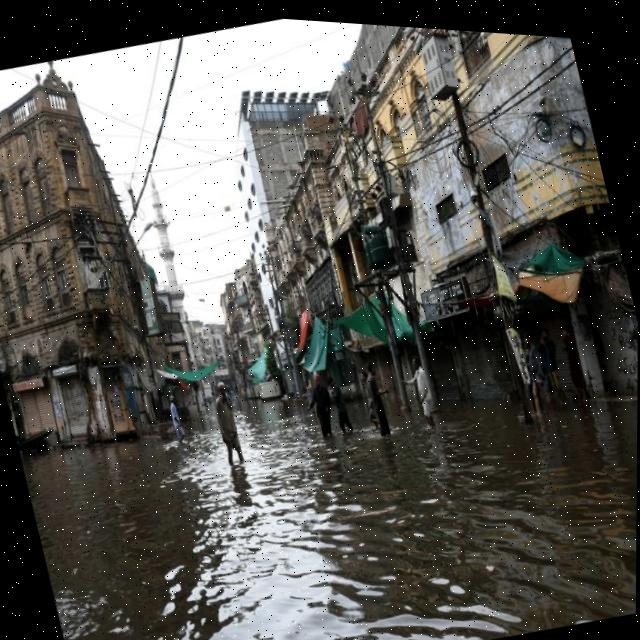civilian: (203, 374, 255, 473), (401, 347, 450, 431), (295, 367, 342, 445), (554, 320, 596, 401), (514, 330, 552, 418), (531, 325, 571, 407), (357, 360, 399, 438), (159, 388, 196, 451), (321, 371, 356, 435)
